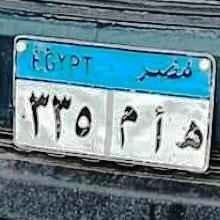3: (26, 91, 50, 141), (52, 90, 72, 142)
5: (73, 103, 96, 141)
alif: (150, 105, 168, 153)
haa: (176, 112, 204, 158)
meem: (115, 103, 139, 152)
